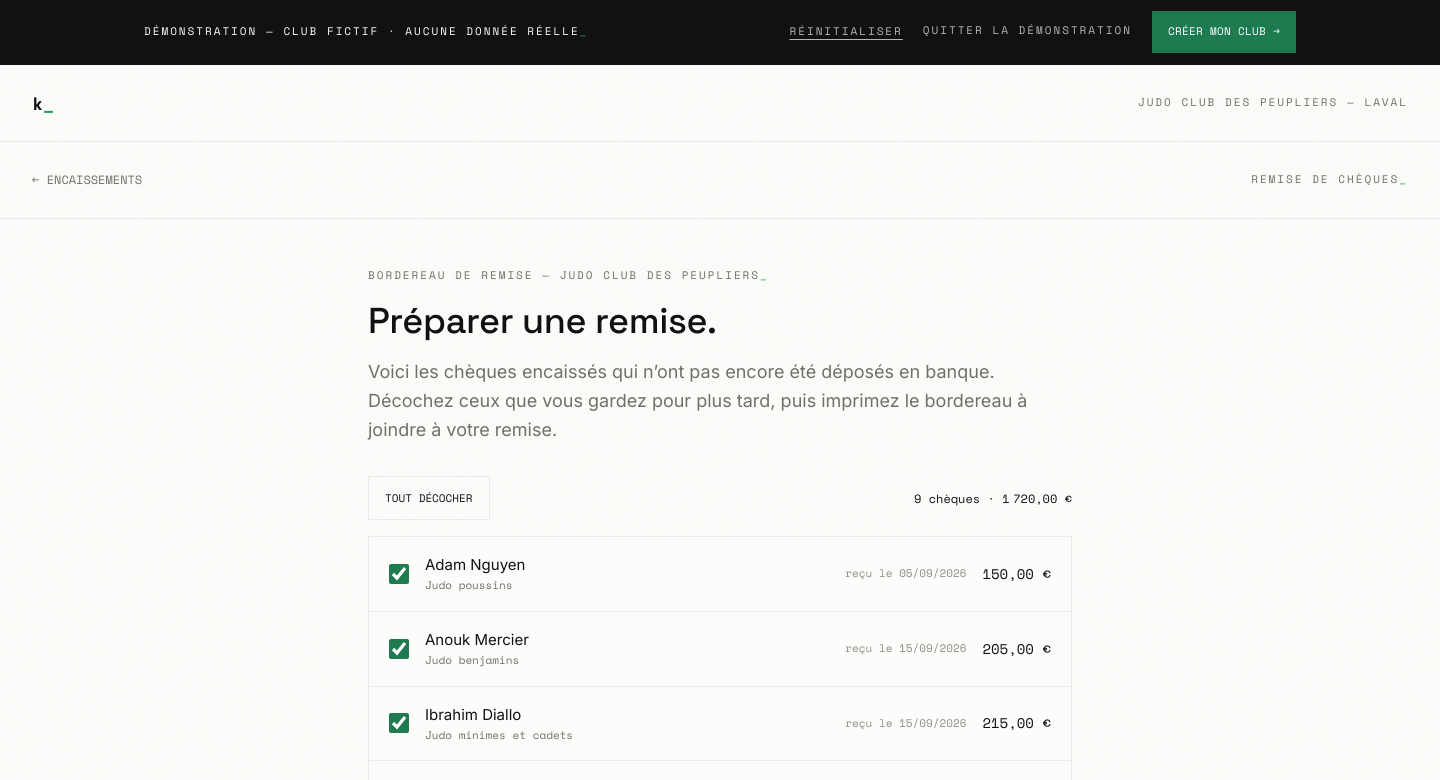
Test: la remise de chèques › désactive le geste quand plus rien n’est coché
This screenshot has width=1440, height=780.
What coordinates should you click on to do the following:
click the button "TOUT DÉCOCHER"
I would click on:
 (429, 498)
Its box is 368,476 -> 490,520.
(page scrolled)
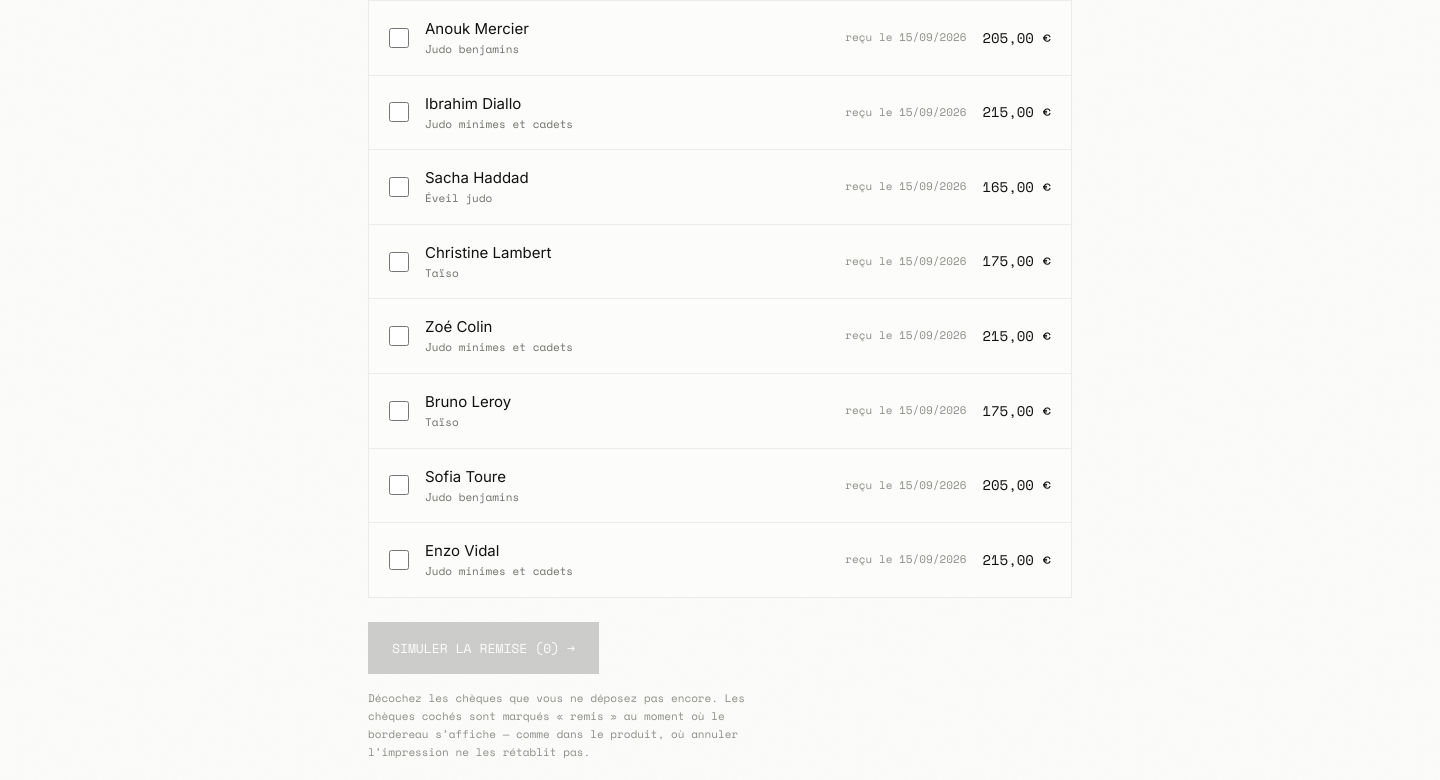
Result: the button "SIMULER LA REMISE (0) →" is disabled at 368,622 -> 599,674
